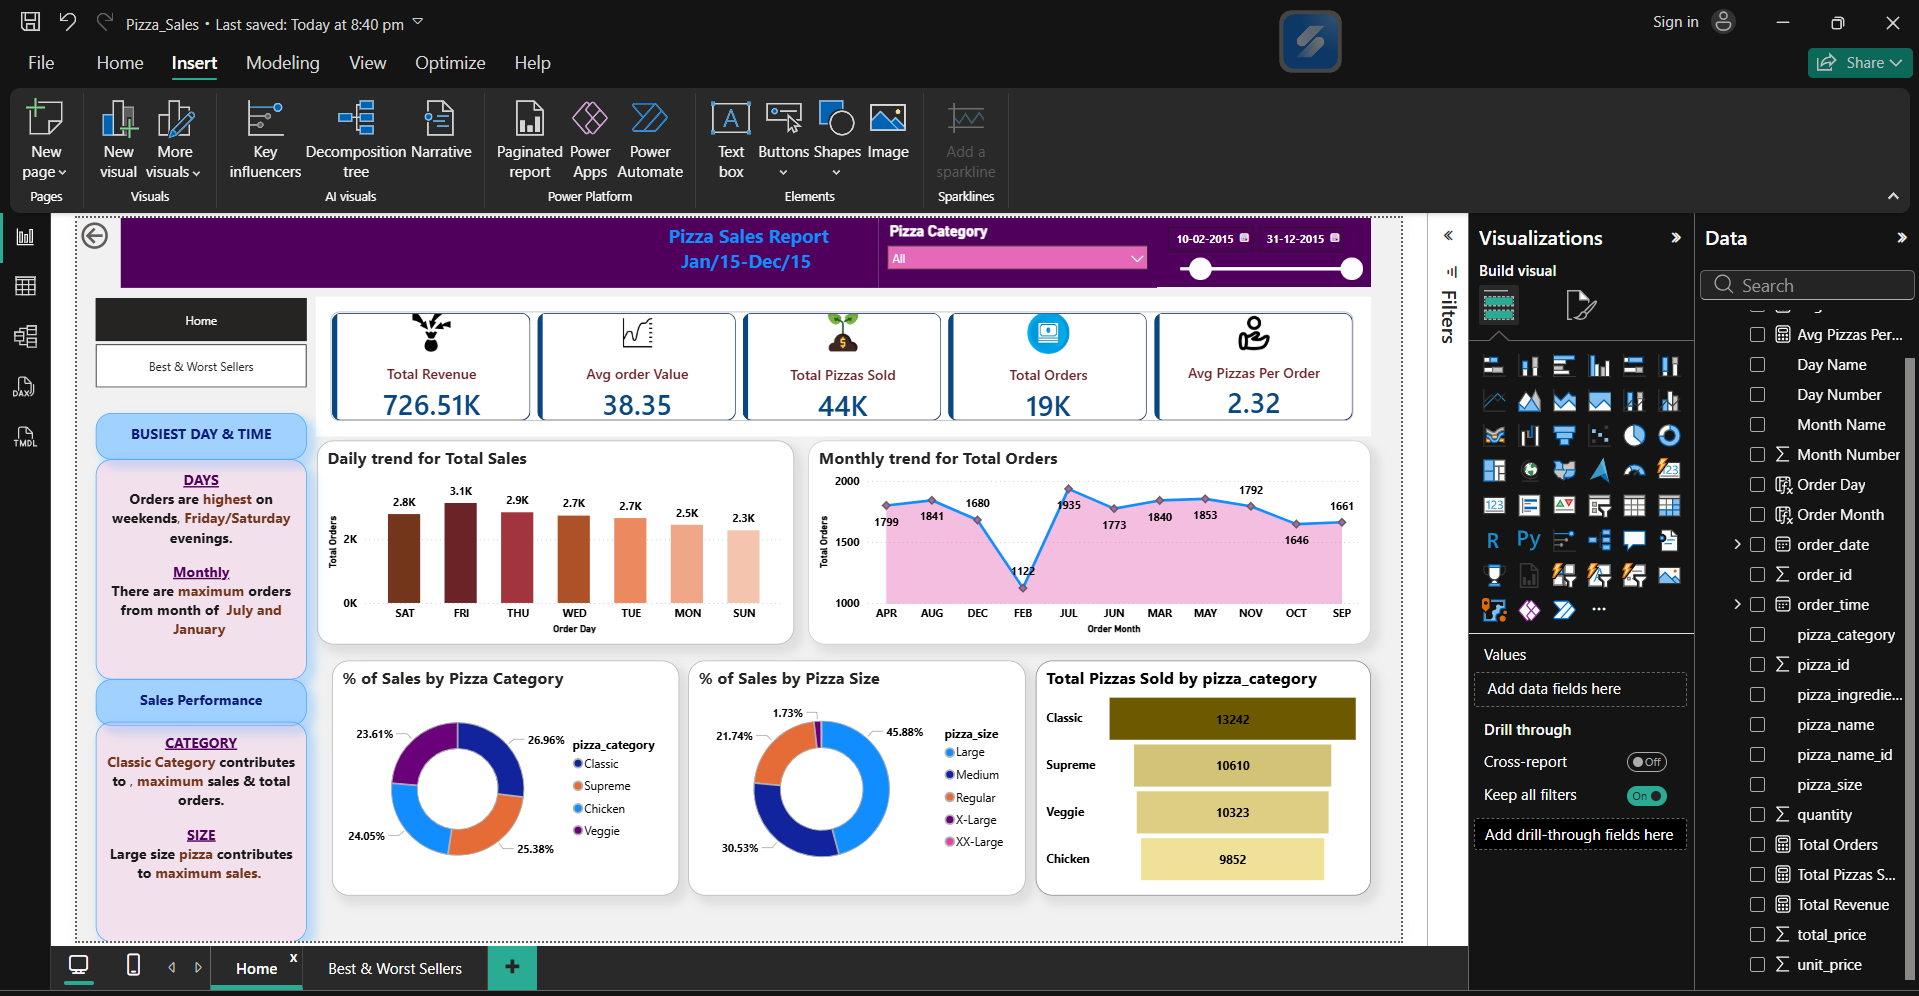

The page's visual inventory and layout, read from the dashboard file:
{"tool":"powerbi","page":{"name":"Home","canvas":[1500,820],"ordinal":0},"visuals":[{"type":"cardVisual","fields":{"Data":["pizza_sales.Total Revenue","pizza_sales.Avg order Value","pizza_sales.Total Pizzas Sold","pizza_sales.Total Orders","pizza_sales.Avg Pizzas Per Order"]},"box":[270.6,89.3,1195.7,158.7],"z":0},{"type":"actionButton","box":[0,0,100,40],"z":1000},{"type":"clusteredColumnChart","title":"Daily trend for Total Sales","fields":{"Category":["pizza_sales.Order Day"],"Y":["pizza_sales.Total Orders"]},"box":[272,252.2,541.2,230.9],"z":6000},{"type":"areaChart","title":"Monthly trend for Total Orders","fields":{"Category":["pizza_sales.Order Month"],"Y":["pizza_sales.Total Orders"]},"box":[828.8,252.2,637.5,230.9],"z":7000},{"type":"donutChart","title":"% of Sales by Pizza Category","fields":{"Category":["pizza_sales.pizza_category"],"Y":["pizza_sales.Total Revenue"]},"box":[289,501.5,393.9,266.3],"z":8000},{"type":"donutChart","title":"% of Sales by Pizza Size","fields":{"Category":["pizza_sales.pizza_size"],"Y":["pizza_sales.Total Revenue"]},"box":[692.8,501.5,382.5,266.3],"z":9000},{"type":"funnel","fields":{"Category":["pizza_sales.pizza_category"],"Y":["pizza_sales.Total Pizzas Sold"]},"box":[1086.6,501.5,379.7,266.3],"z":10000},{"type":"textbox","box":[21.3,221,239.4,52.4],"z":11000},{"type":"textbox","box":[21.3,273.4,239.4,249.3],"z":12000},{"type":"textbox","box":[21.3,522.8,239.4,52.4],"z":13000},{"type":"textbox","box":[21.3,570.9,239.4,249.3],"z":14000},{"type":"slicer","fields":{"Values":["pizza_sales.pizza_category"]},"box":[908.1,0,315.9,79.3],"z":15000},{"type":"slicer","fields":{"Values":["pizza_sales.order_date"]},"box":[1224.1,0,242.3,77.9],"z":16000},{"type":"textbox","box":[49.6,0,858.5,79.3],"z":16001},{"type":"pageNavigator","box":[20.9,90.1,239.6,49.9],"z":16002},{"type":"pageNavigator","box":[20.9,143.1,239.6,49.9],"z":16003}]}

Visuals, with their boxes on the page's 1500x820 design canvas (x1, y1, x2, y2). These are canvas units, not pixel positions in the 1919x996 screenshot, which may show the page scaled, cropped or inside an application window:
cardVisual - pizza_sales.Total Revenue x pizza_sales.Avg order Value: box=[271, 89, 1466, 248]
actionButton: box=[0, 0, 100, 40]
"Daily trend for Total Sales" clusteredColumnChart: box=[272, 252, 813, 483]
"Monthly trend for Total Orders" areaChart: box=[829, 252, 1466, 483]
"% of Sales by Pizza Category" donutChart: box=[289, 502, 683, 768]
"% of Sales by Pizza Size" donutChart: box=[693, 502, 1075, 768]
funnel - pizza_sales.pizza_category x pizza_sales.Total Pizzas Sold: box=[1087, 502, 1466, 768]
textbox: box=[21, 221, 261, 273]
textbox: box=[21, 273, 261, 523]
textbox: box=[21, 523, 261, 575]
textbox: box=[21, 571, 261, 820]
slicer - pizza_sales.pizza_category: box=[908, 0, 1224, 79]
slicer - pizza_sales.order_date: box=[1224, 0, 1466, 78]
textbox: box=[50, 0, 908, 79]
pageNavigator: box=[21, 90, 260, 140]
pageNavigator: box=[21, 143, 260, 193]
